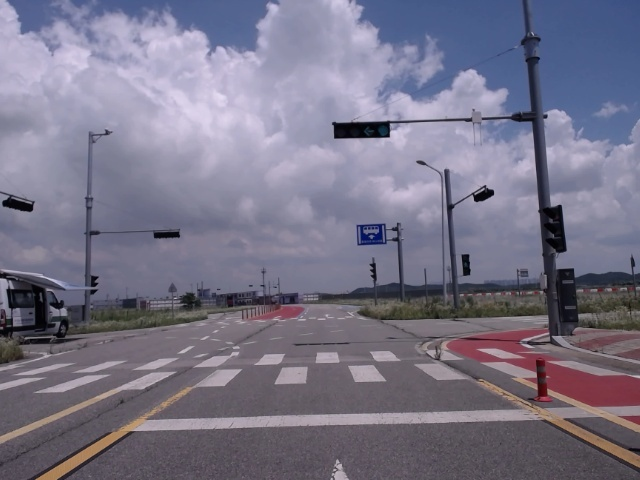all_green_4: (334, 124, 389, 139)
